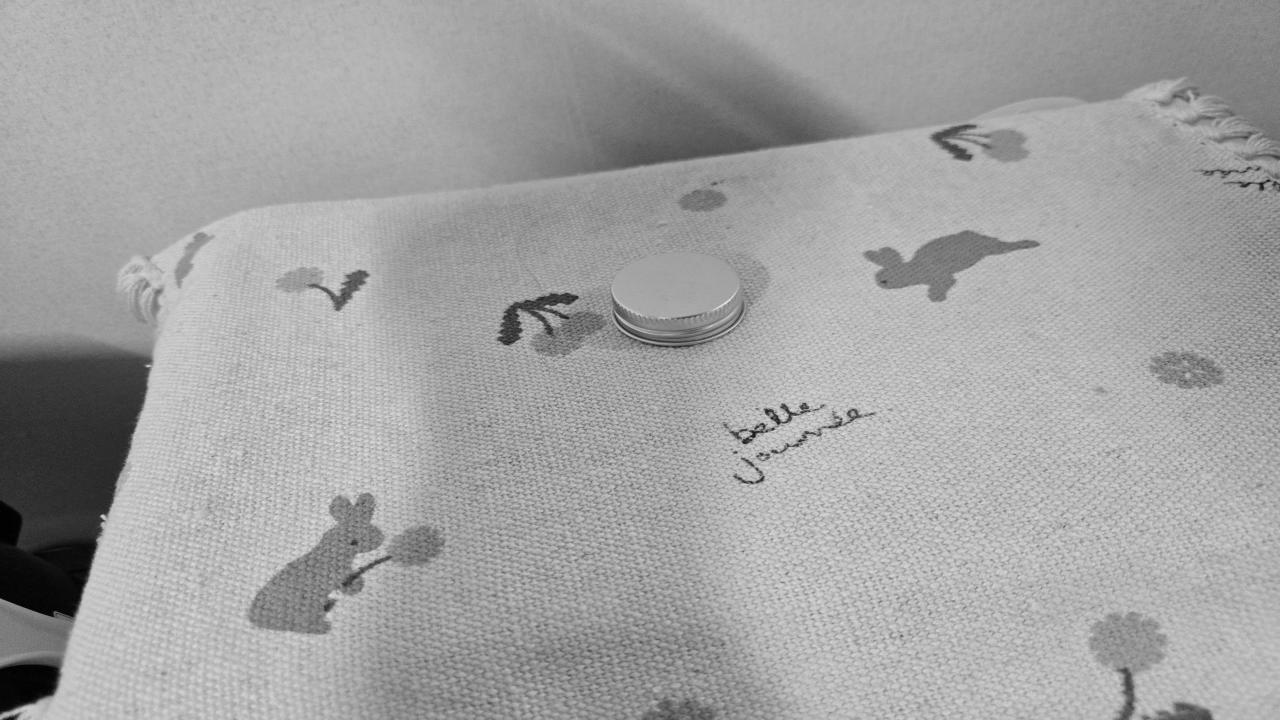bottle_cap: (616, 254, 746, 342)
